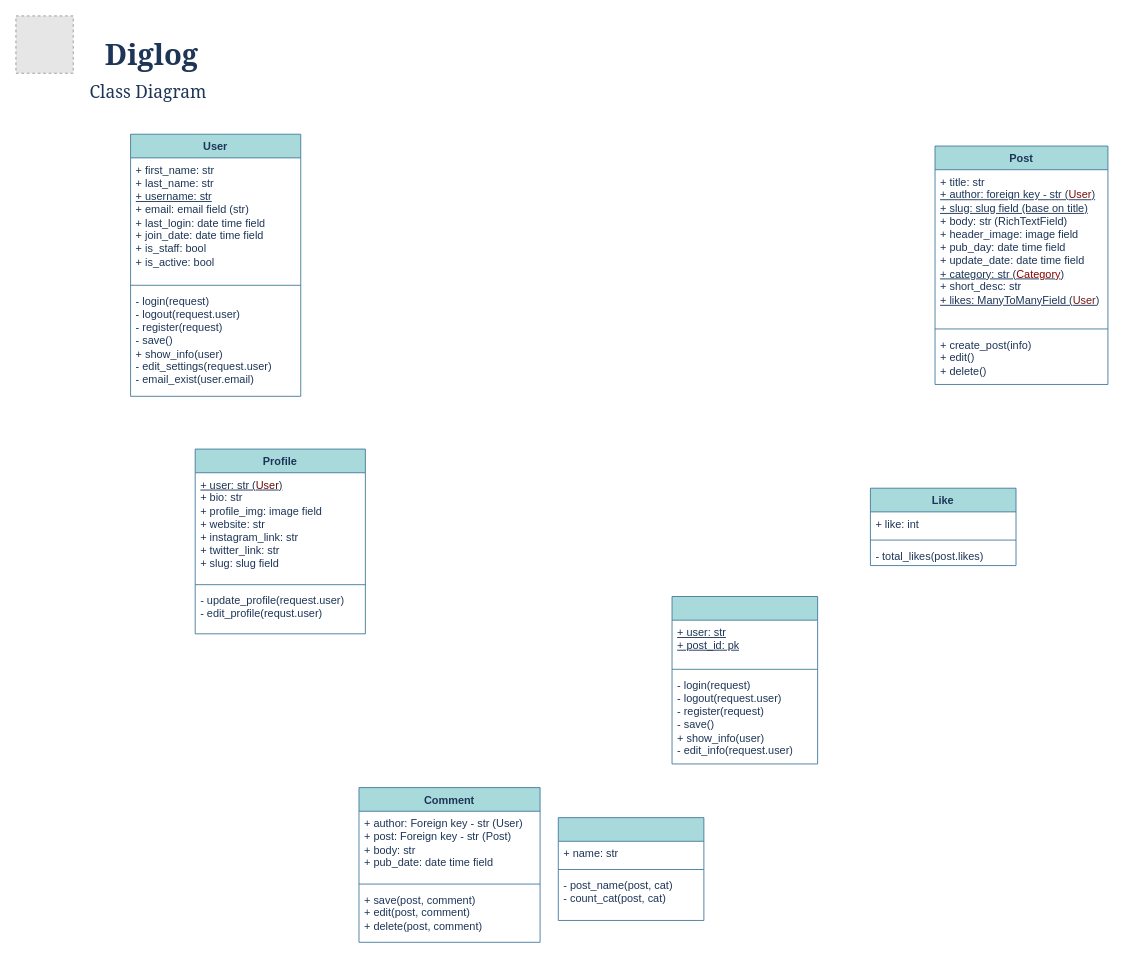
The diagram is 1124 pixels wide and 961 high, and some of its shapes have lost their labels. Grey dashed boxes stand in for pictures. Each missing label, with the box of its shape:
Category: (557, 817, 704, 920)
View: (671, 596, 818, 764)
